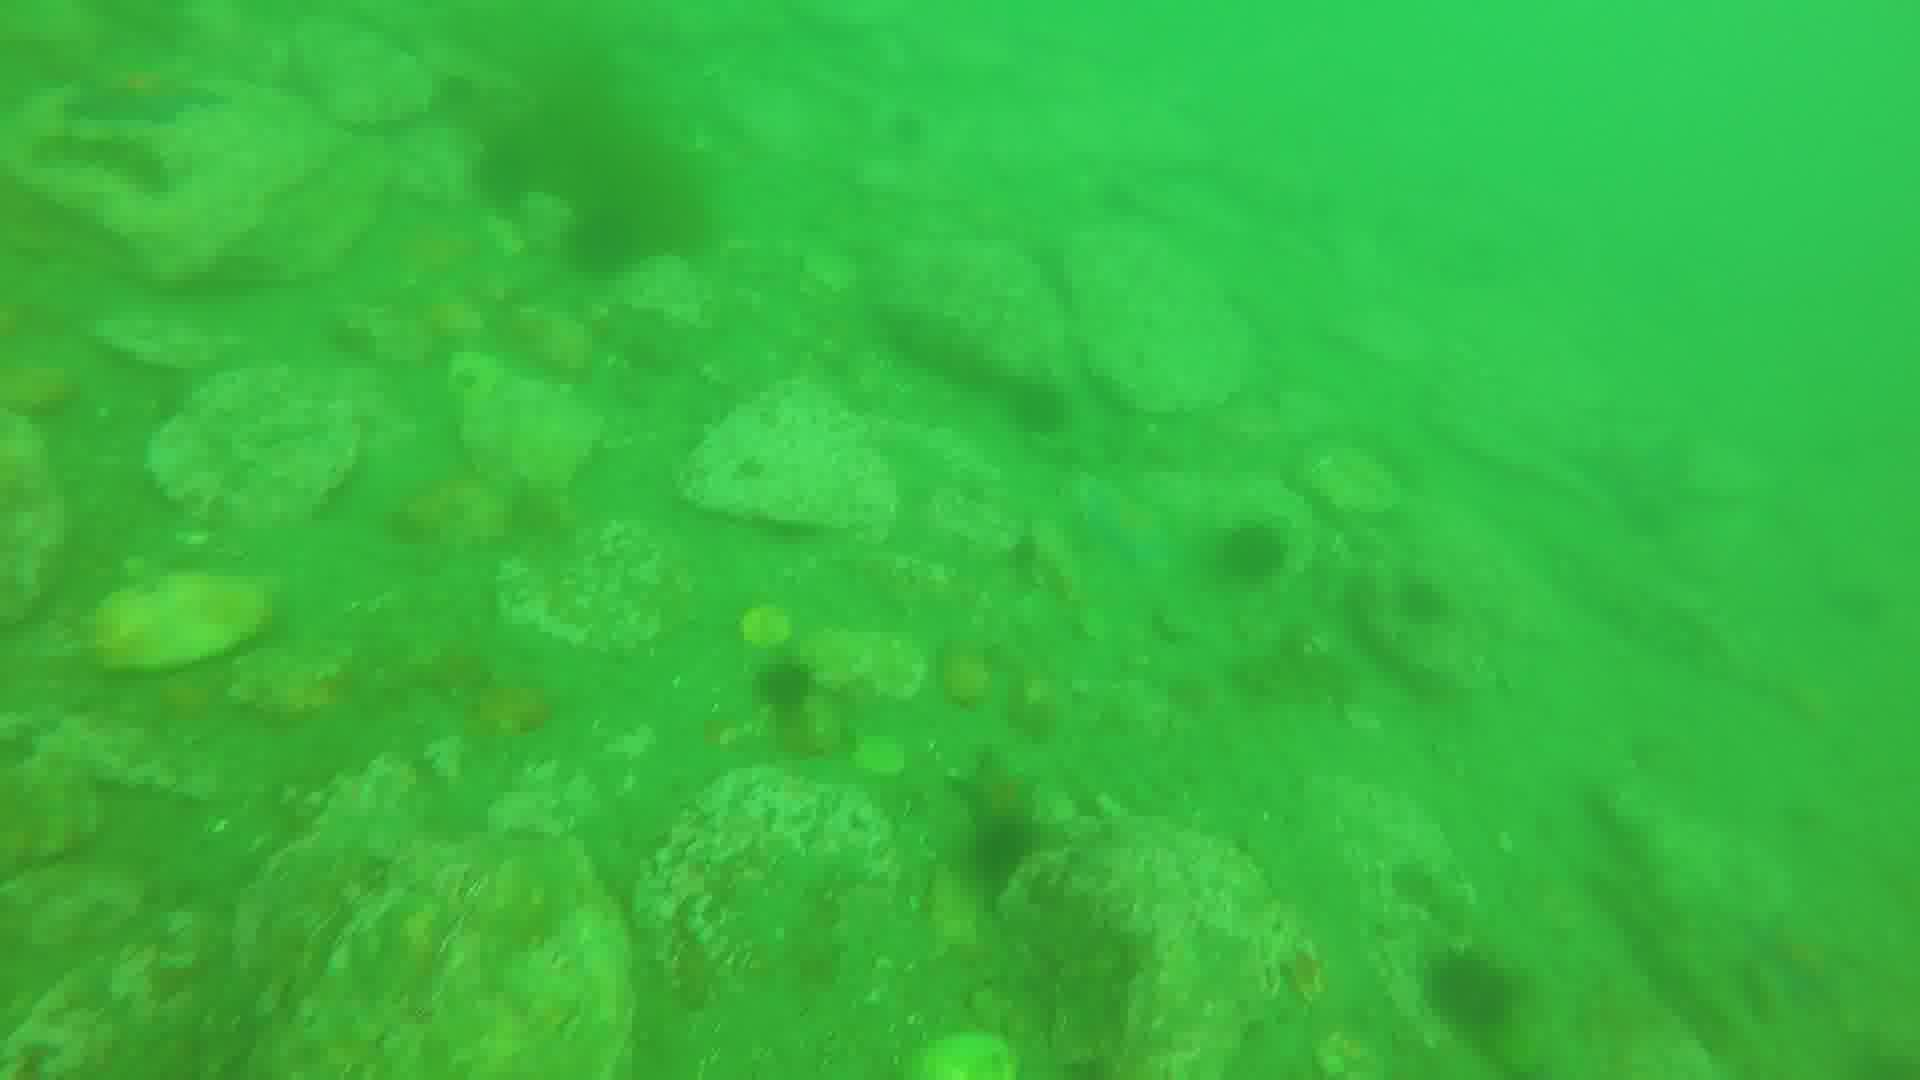echinus: (1437, 949, 1519, 1034), (1005, 368, 1075, 442), (978, 823, 1046, 887), (1230, 520, 1290, 582), (765, 657, 823, 707), (579, 214, 637, 262), (1404, 578, 1447, 633), (889, 108, 928, 146)
starfish: (70, 76, 240, 128), (948, 753, 1044, 839), (1088, 493, 1174, 568)
